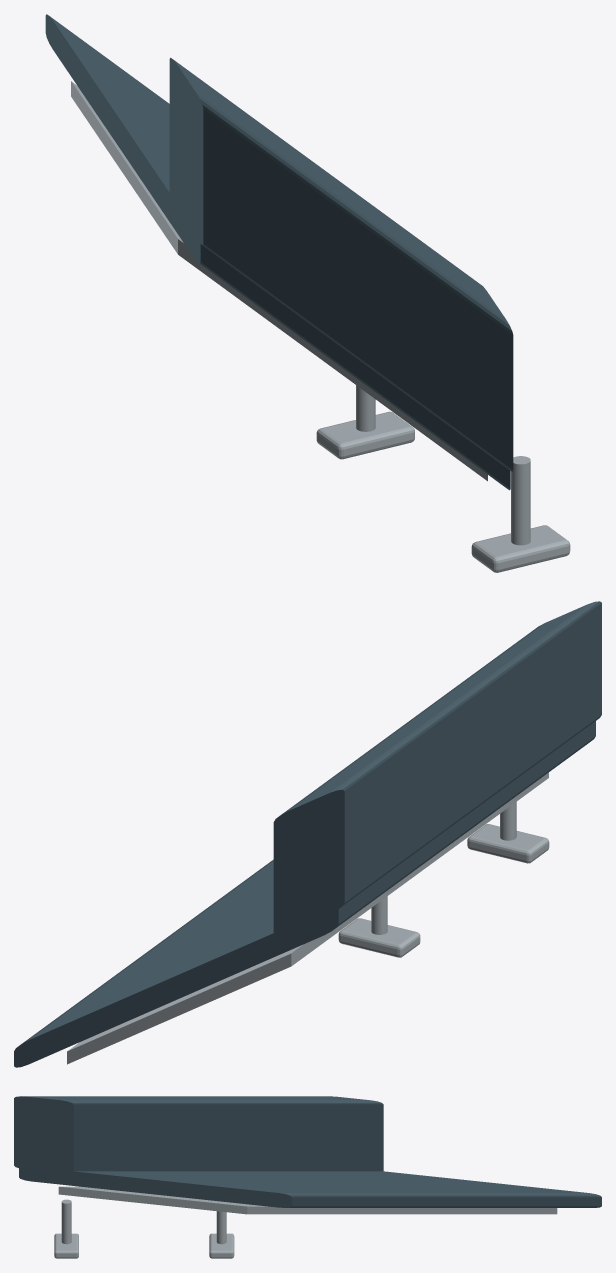
The model's file is cabin_bench_length_250cm.glb.
3 renders of one model, top to bottom at view 1: azimuth 30°, elevation 25°; view 2: azimuth 150°, elevation 25°; view 3: azimuth 270°, elevation 25°, orthographic. The views are drawn at different scales.
Visible parts, largest first — view 1: Bench upright back.004, Bench seat cushion.004, Bench support beam.004, Bench foot.007, Bench foot.006, Bench pedestal.006, Bench pedestal.007; view 2: Bench upright back.004, Bench seat cushion.004, Bench support beam.004, Bench foot.007, Bench foot.006; view 3: Bench upright back.004, Bench seat cushion.004, Bench support beam.004, Bench foot.007, Bench foot.006, Bench pedestal.006, Bench pedestal.007.
Boxes of the visible parts, x1,y1,x2,y2 form: Bench upright back.004: [169, 57, 513, 471]; Bench seat cushion.004: [45, 14, 510, 490]; Bench support beam.004: [71, 81, 487, 481]; Bench foot.007: [316, 411, 414, 459]; Bench foot.006: [471, 525, 570, 572]; Bench pedestal.006: [511, 456, 530, 545]; Bench pedestal.007: [356, 385, 375, 431]; Bench upright back.004: [273, 601, 601, 935]; Bench seat cushion.004: [14, 721, 595, 1067]; Bench support beam.004: [67, 772, 548, 1064]; Bench foot.007: [338, 918, 420, 957]; Bench foot.006: [467, 824, 549, 863]; Bench upright back.004: [14, 1096, 383, 1173]; Bench seat cushion.004: [19, 1167, 601, 1207]; Bench support beam.004: [58, 1186, 557, 1214]; Bench foot.007: [209, 1233, 234, 1258]; Bench foot.006: [54, 1233, 78, 1258]; Bench pedestal.006: [61, 1199, 71, 1244]; Bench pedestal.007: [216, 1211, 226, 1244].
Bounding box in the file's own units: 0.56 × 1.25 × 4.74.
